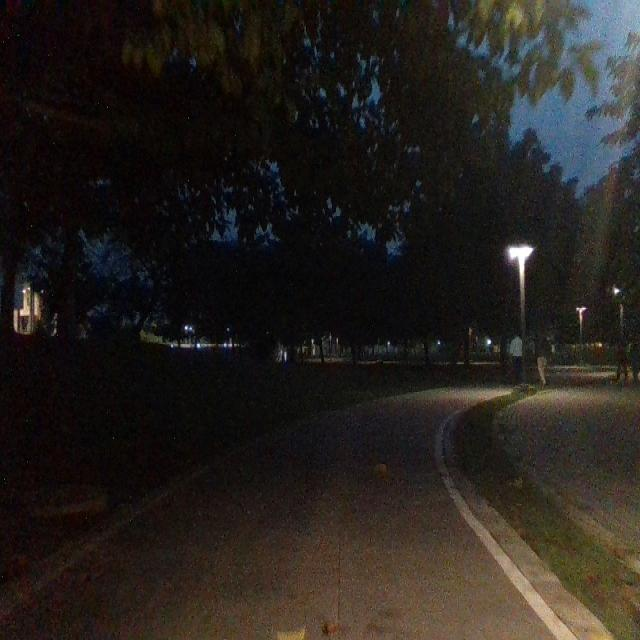lane: (5, 388, 548, 633)
